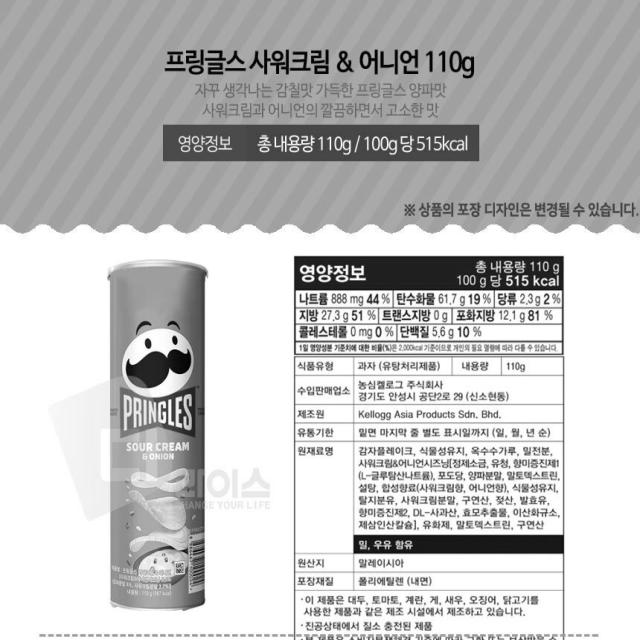Nutrition Label: (286, 247, 573, 640)
